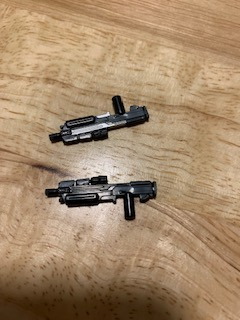rifle: (43, 93, 155, 148), (45, 173, 160, 225)
